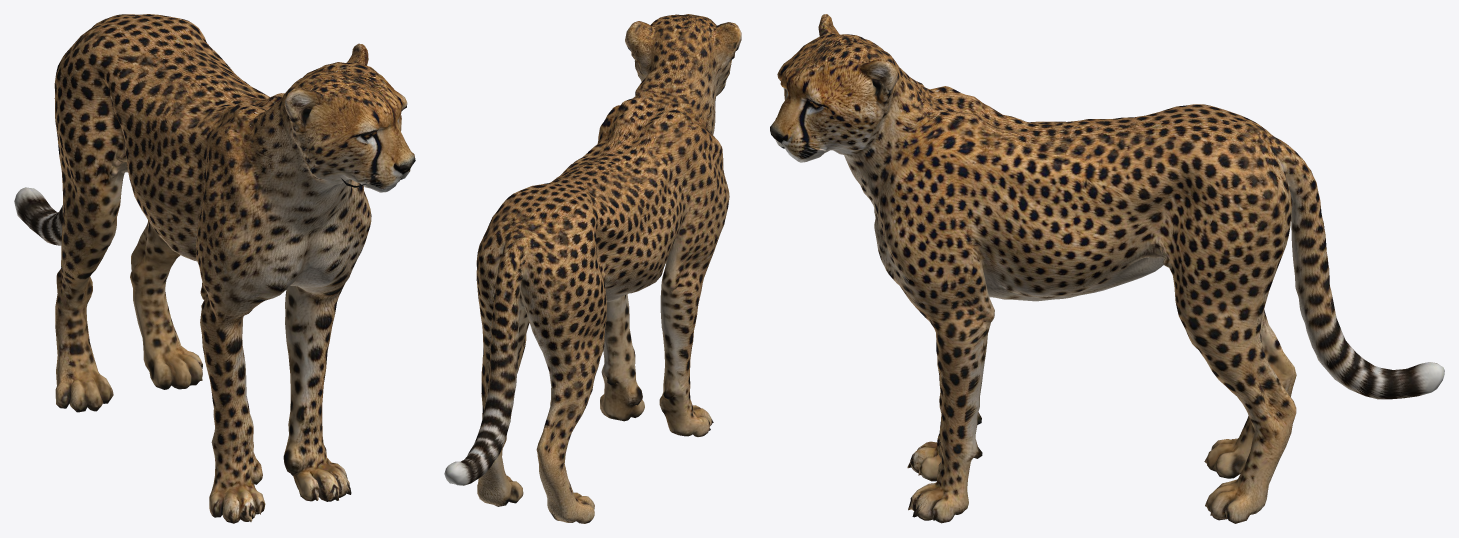
The model's file is cheetah.glb.
The picture shows the model from 3 angles, left to right: view 1: azimuth 30°, elevation 25°; view 2: azimuth 150°, elevation 25°; view 3: azimuth 270°, elevation 25°; orthographic projection. The views are drawn at different scales.
Visible parts, largest first — view 1: tripo_node_5791a376-aaba-41b0-900a-e6bed1519d5e; view 2: tripo_node_5791a376-aaba-41b0-900a-e6bed1519d5e; view 3: tripo_node_5791a376-aaba-41b0-900a-e6bed1519d5e.
Boxes of the visible parts, left/top/right/bottom form: tripo_node_5791a376-aaba-41b0-900a-e6bed1519d5e: left=14, top=14, right=415, bottom=523; tripo_node_5791a376-aaba-41b0-900a-e6bed1519d5e: left=444, top=14, right=741, bottom=523; tripo_node_5791a376-aaba-41b0-900a-e6bed1519d5e: left=770, top=14, right=1444, bottom=523.
Bounding box in the file's own units: 0.2522 × 0.7539 × 1.
Materials: 1 (1 with a texture image).
